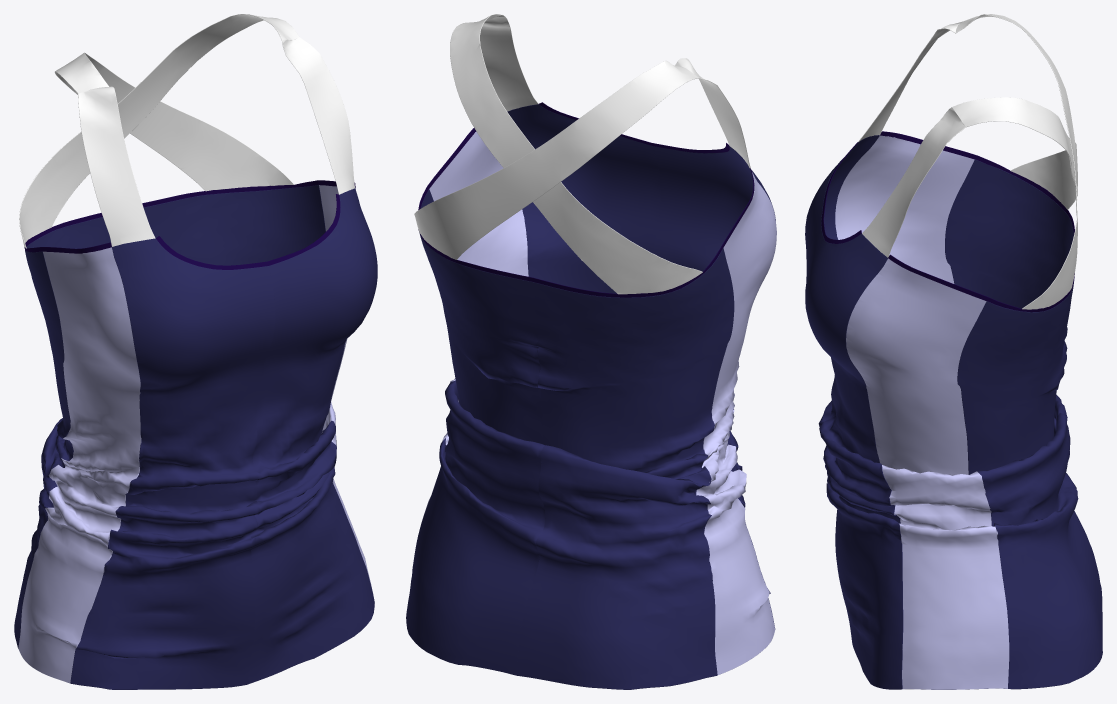
File: Quad.fbx
The picture shows the model from 3 angles, left to right: view 1: azimuth 30°, elevation 25°; view 2: azimuth 150°, elevation 25°; view 3: azimuth 270°, elevation 25°; orthographic projection. The views are drawn at different scales.
Parts seen in each view (by area): view 1: Quad; view 2: Quad; view 3: Quad.
Part boxes in pixels (x1,y1,x2,y2): Quad: [14, 14, 377, 689]; Quad: [406, 14, 776, 689]; Quad: [805, 14, 1102, 689].
Size of the model in its own units: 32.34 by 56.41 by 26.05.
